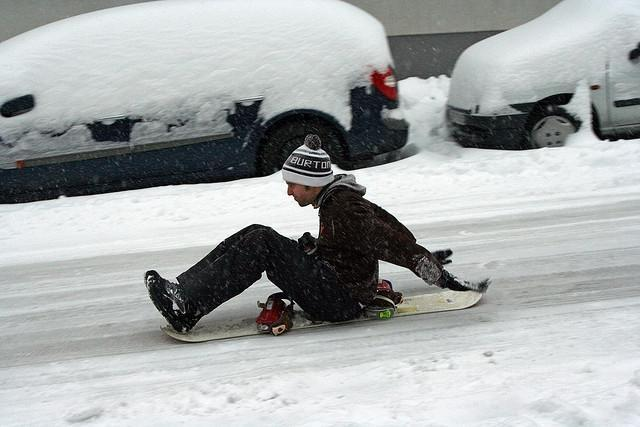car: (1, 1, 410, 204), (447, 4, 640, 156)
